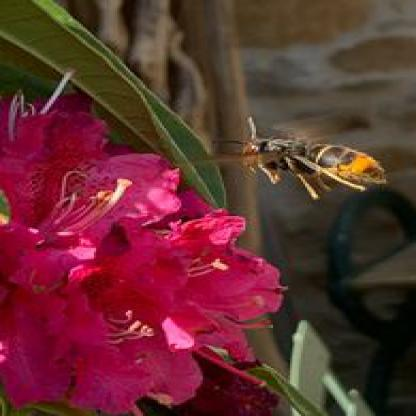Asian Hornet: (213, 116, 396, 204)
